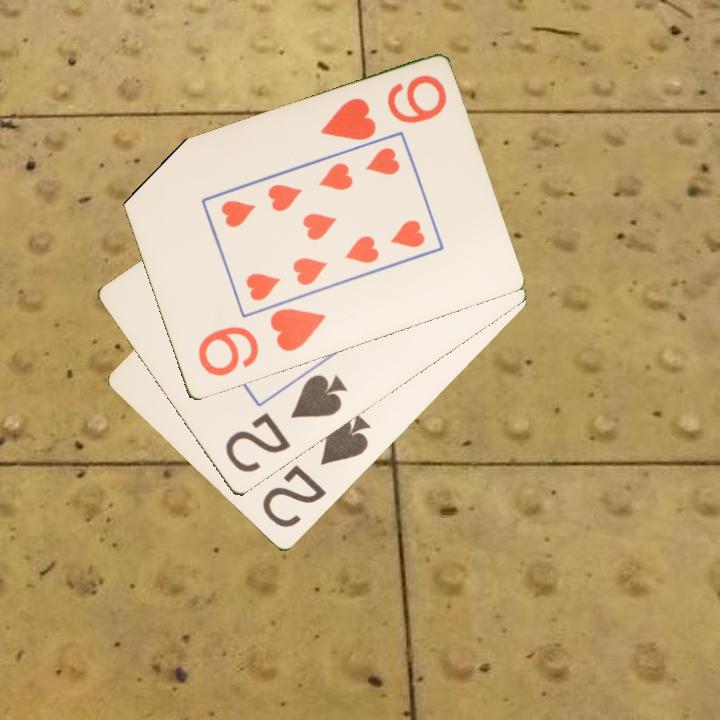2s: (258, 410, 374, 532), (221, 371, 350, 477)
9h: (194, 305, 329, 380), (316, 71, 450, 144)
